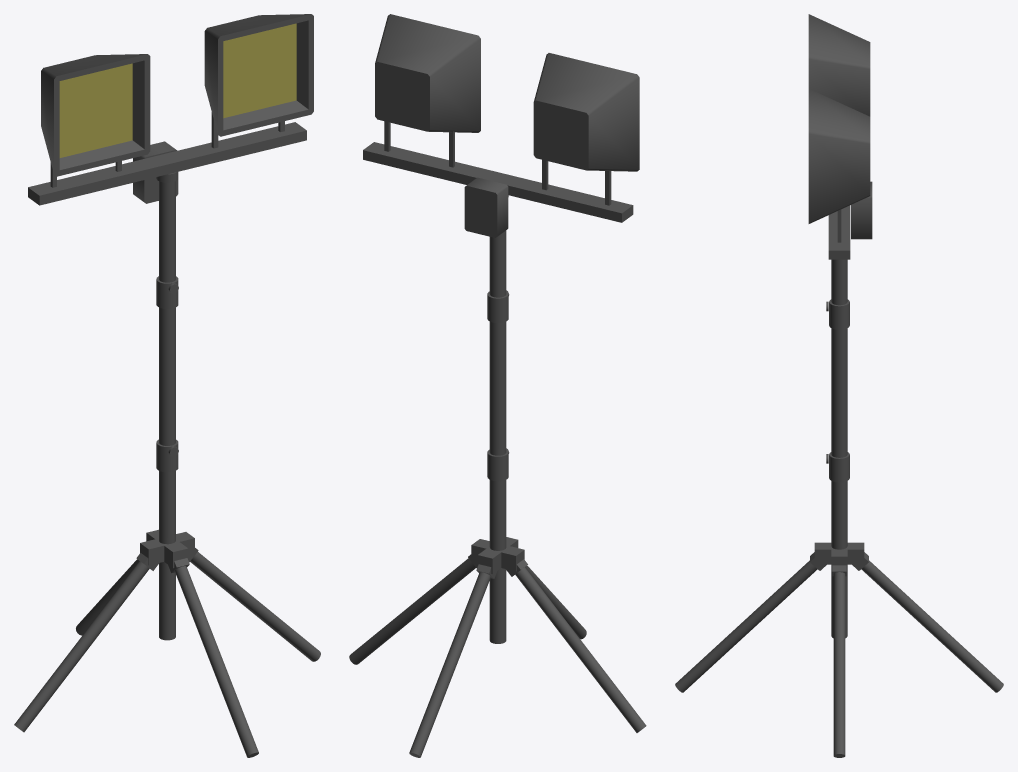
The model's file is ConstructionLight.fbx.
3 renders of one model, left to right at view 1: azimuth 30°, elevation 25°; view 2: azimuth 150°, elevation 25°; view 3: azimuth 270°, elevation 25°, orthographic. The views are drawn at different scales.
Visible parts, largest first — view 1: Cube; view 2: Cube; view 3: Cube.
Part boxes in pixels (x1,y1,x2,y2): Cube: [14, 14, 320, 757]; Cube: [349, 14, 646, 757]; Cube: [675, 14, 1003, 757].
Size of the model in its own units: 1152 by 2396 by 1152.
